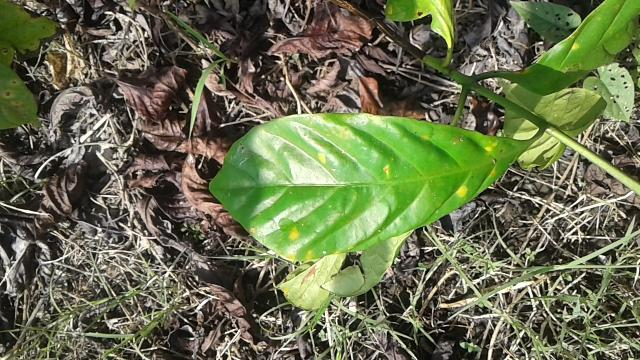rust_level_1: (204, 114, 530, 264)
